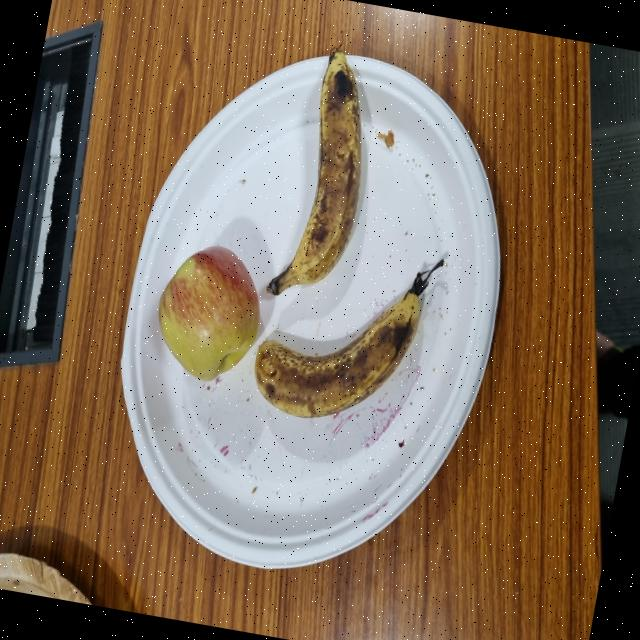apple: (185, 197, 291, 337)
banana: (147, 331, 251, 555), (246, 340, 428, 453)
